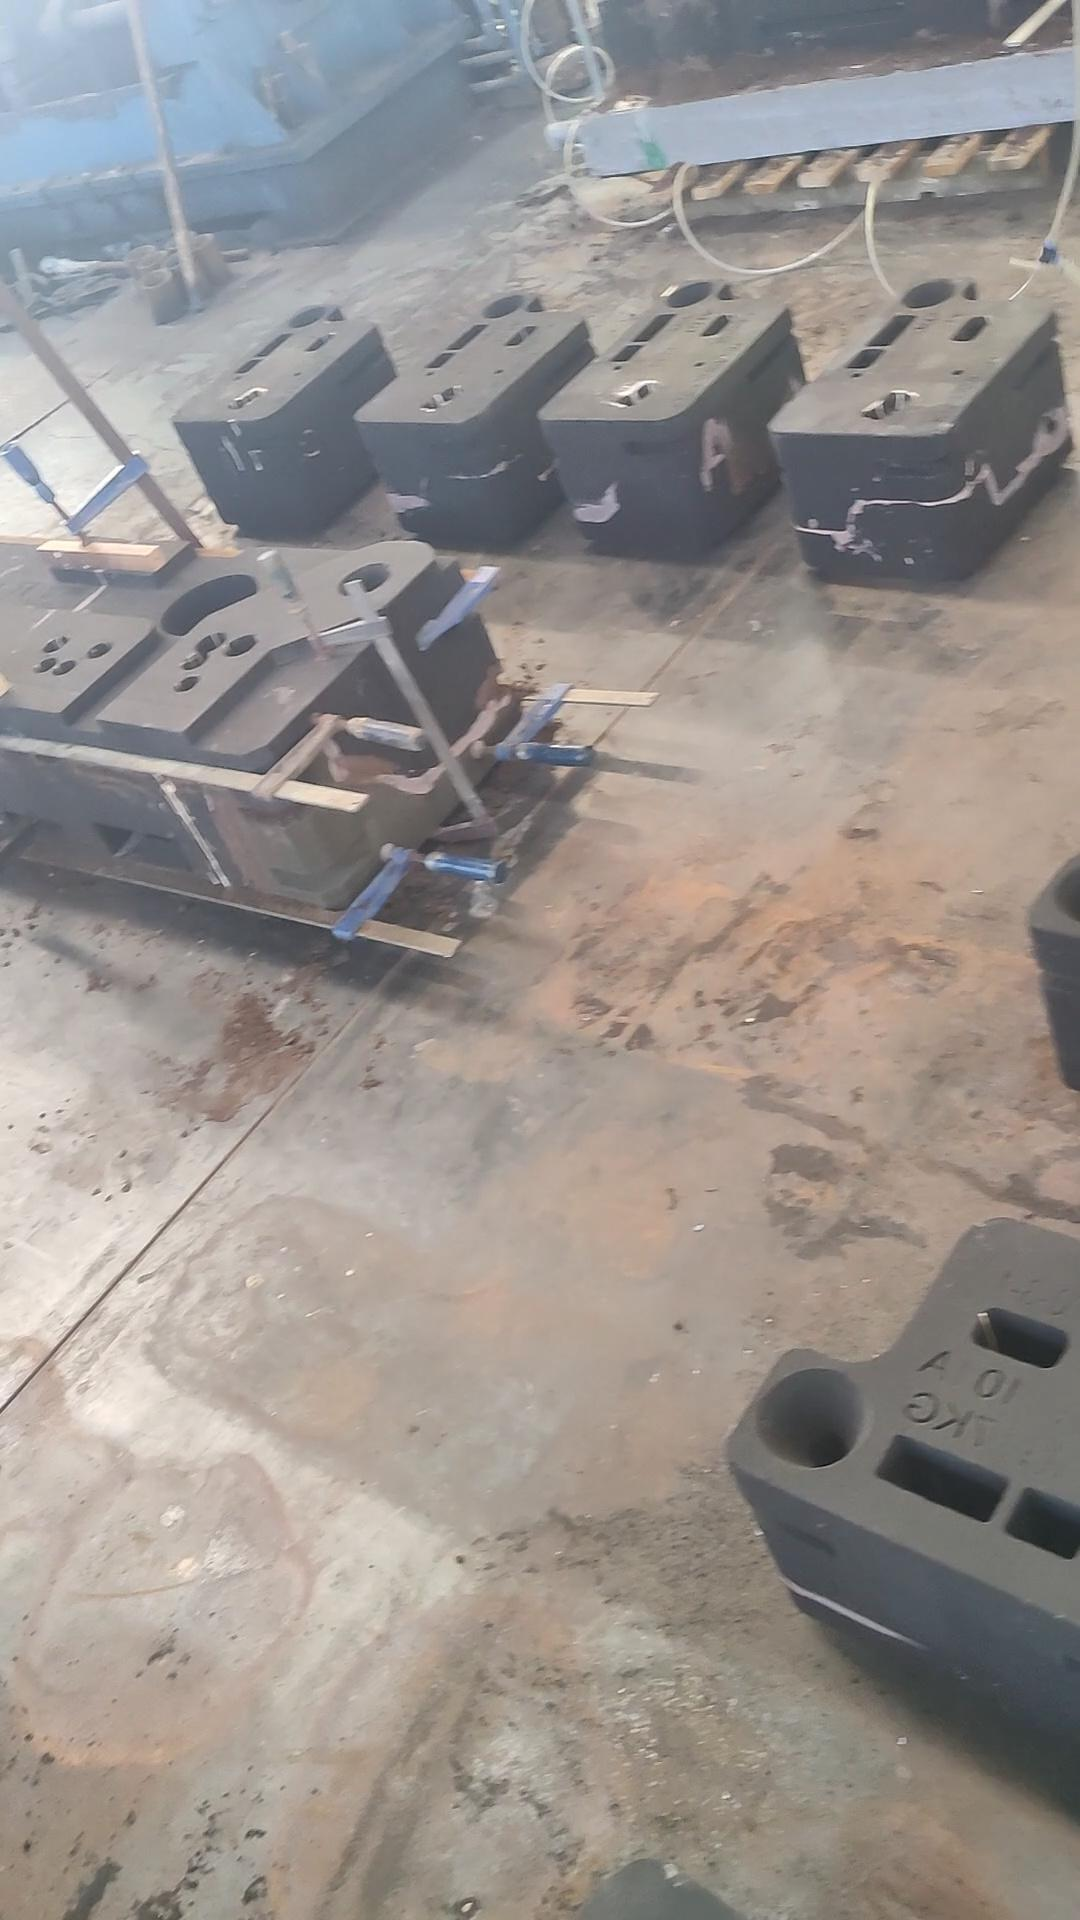pouring hole: (754, 1369, 866, 1466), (338, 562, 392, 597), (901, 280, 956, 309), (1052, 866, 1080, 920), (666, 281, 713, 307), (479, 294, 526, 319), (286, 303, 326, 327)
